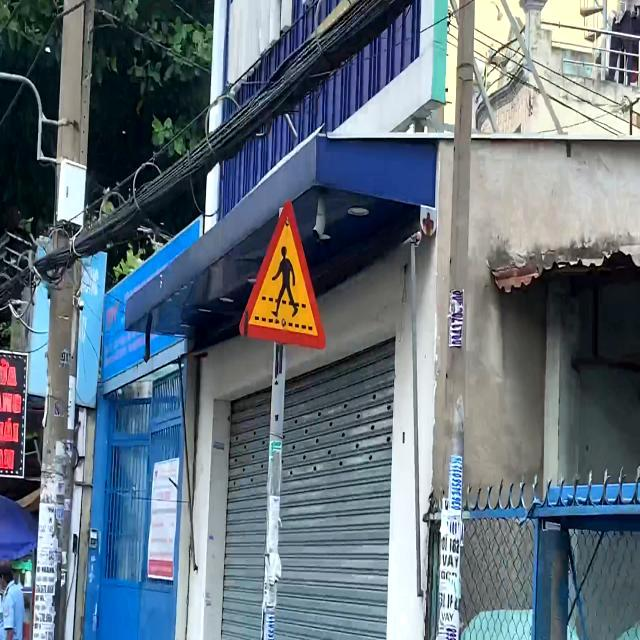Nguoi di bo cat ngang: (235, 194, 331, 356)
